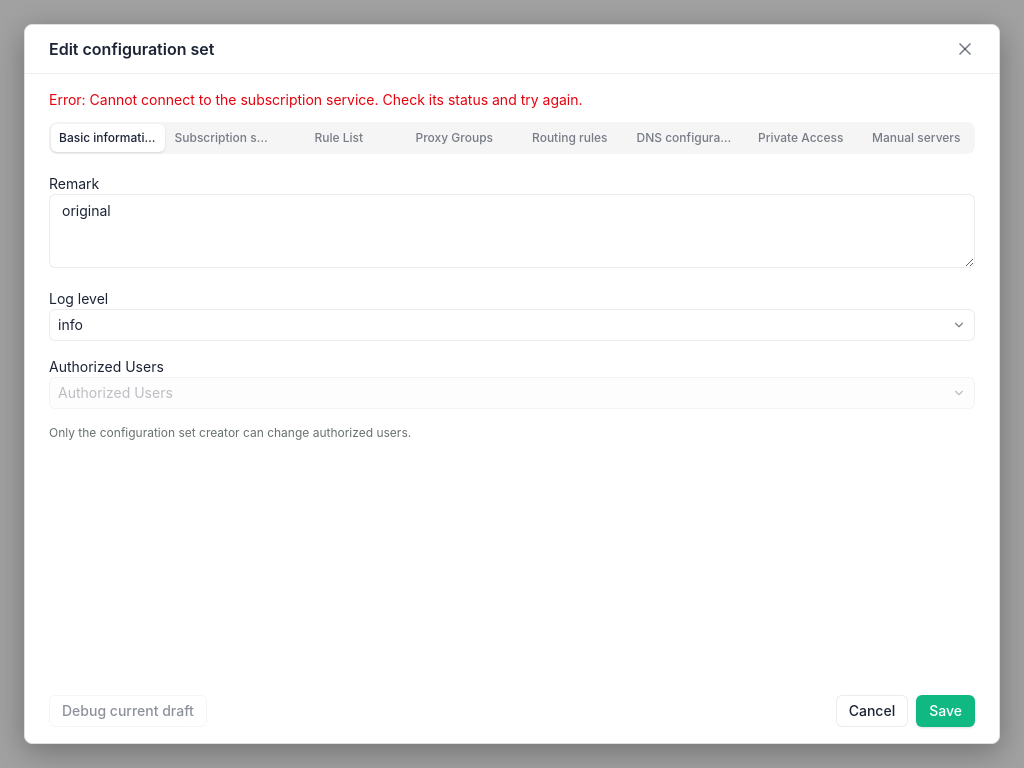
retains edited settings on a conflicting revision
Replace the text in the text box labelled "Remark" with "keep this": [512, 231] box [49,194,975,268]
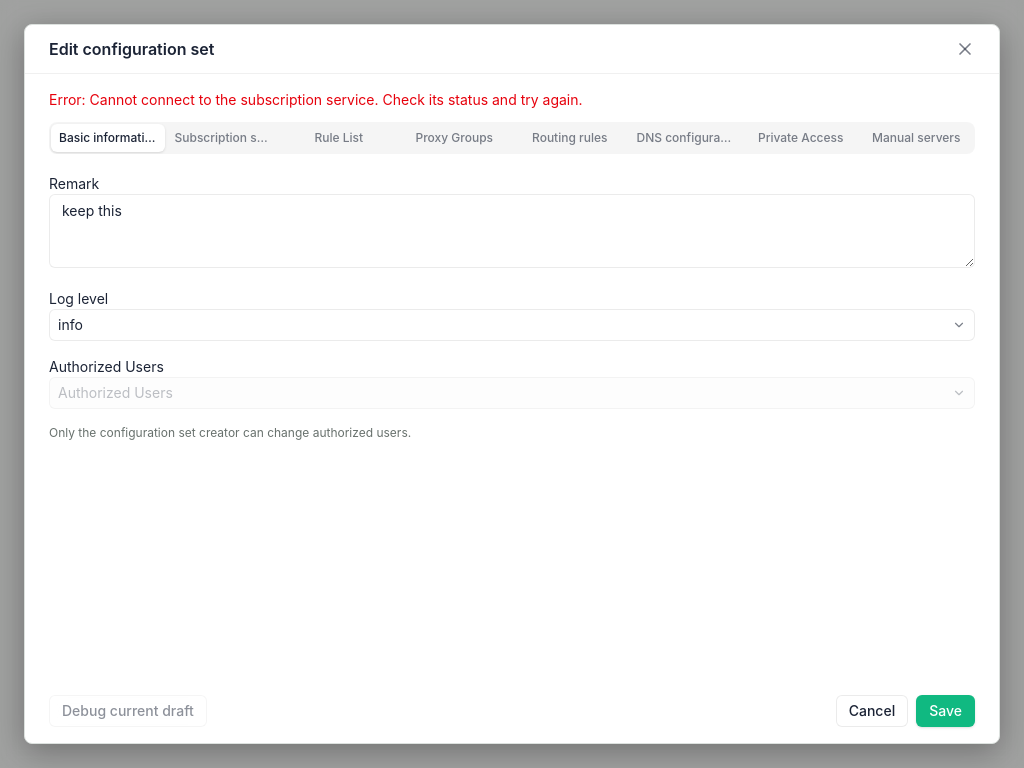
Click the button "Save": [946, 711] box [916,695,975,727]
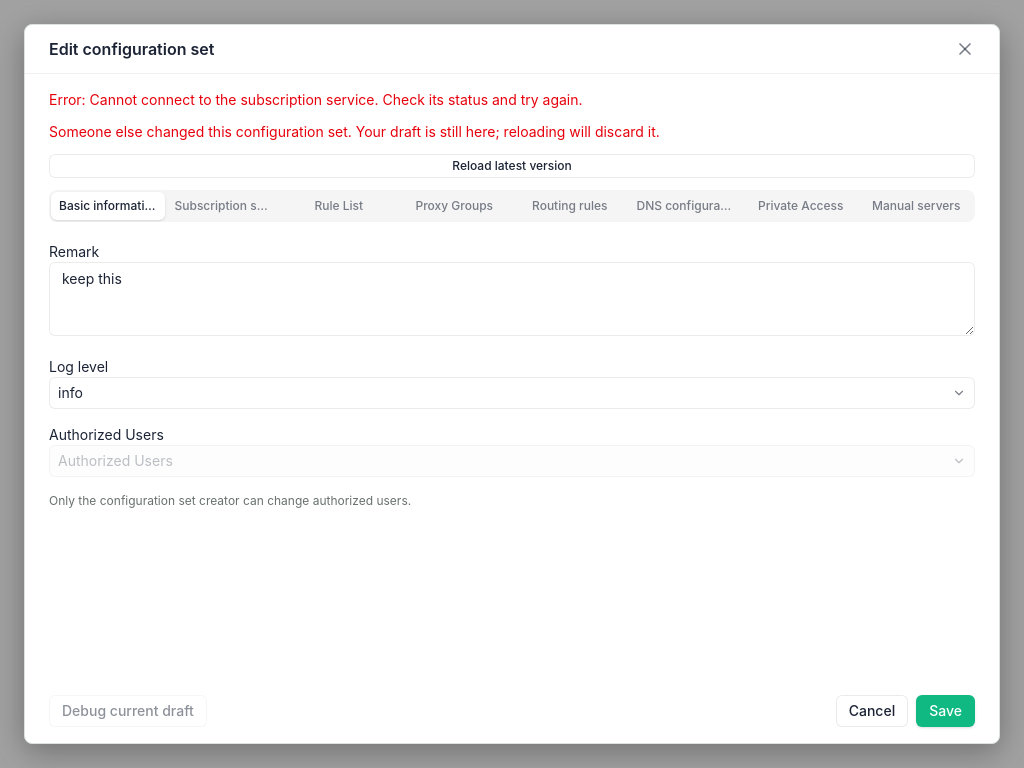
Now the text "Someone else changed" is shown, box [49,123,660,140]
